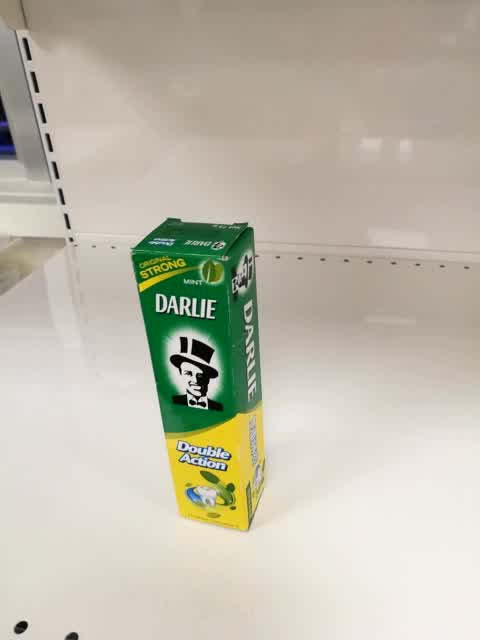toothpaste: (128, 216, 266, 535)
